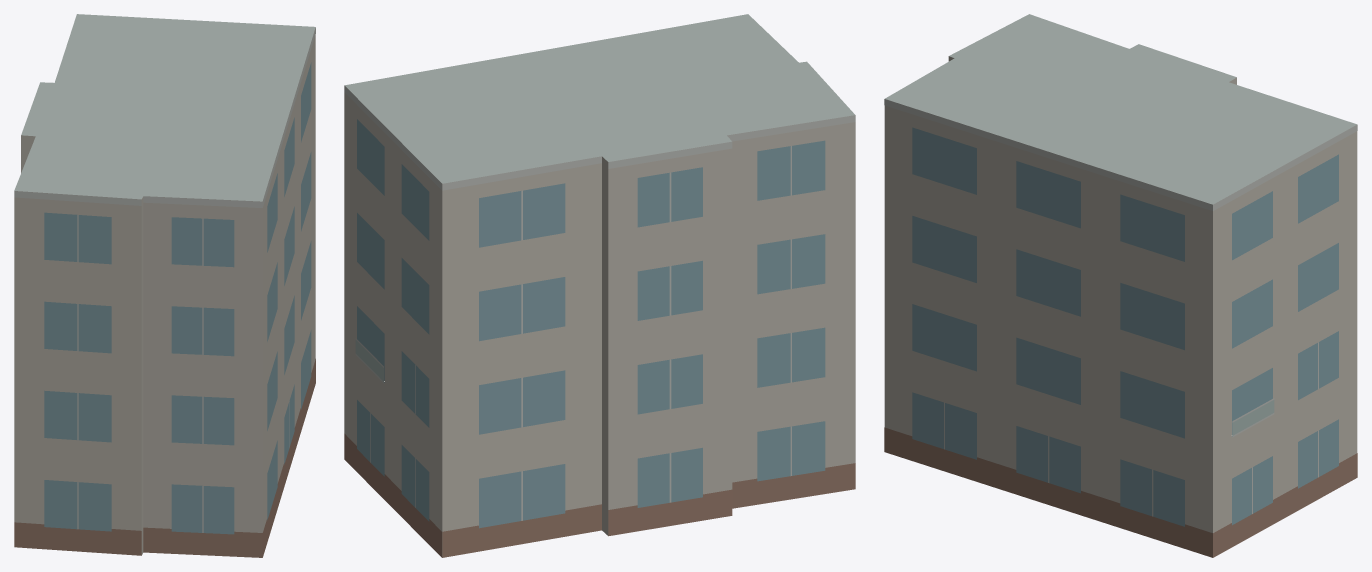
The model's file is survey-upis-32478156.glb.
3 renders of one model, left to right at view 1: azimuth 30°, elevation 25°; view 2: azimuth 150°, elevation 25°; view 3: azimuth 270°, elevation 25°, orthographic. The views are drawn at different scales.
Parts seen in each view (by area): view 1: survey-upis-32478156.tmp; view 2: survey-upis-32478156.tmp; view 3: survey-upis-32478156.tmp.
Part boxes in pixels (x1,y1,x2,y2): survey-upis-32478156.tmp: [14, 14, 315, 557]; survey-upis-32478156.tmp: [344, 14, 855, 557]; survey-upis-32478156.tmp: [884, 14, 1357, 557].
Bounding box in the file's own units: 15.29 × 13.2 × 16.03.
